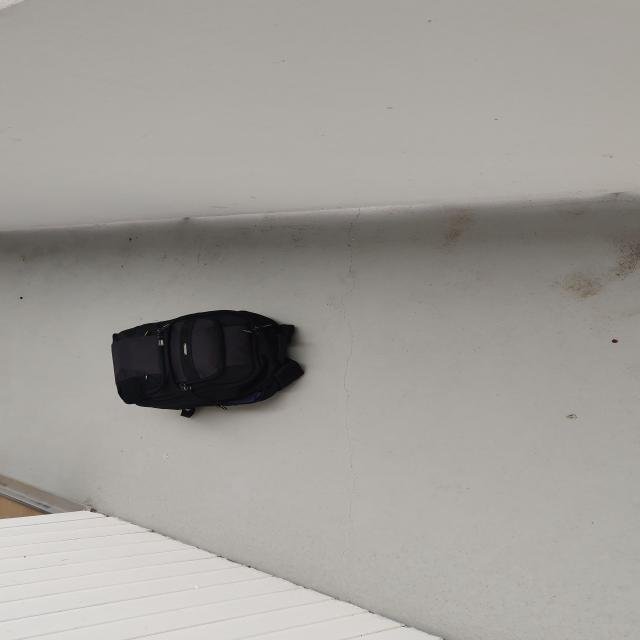backpack: (102, 304, 310, 415)
